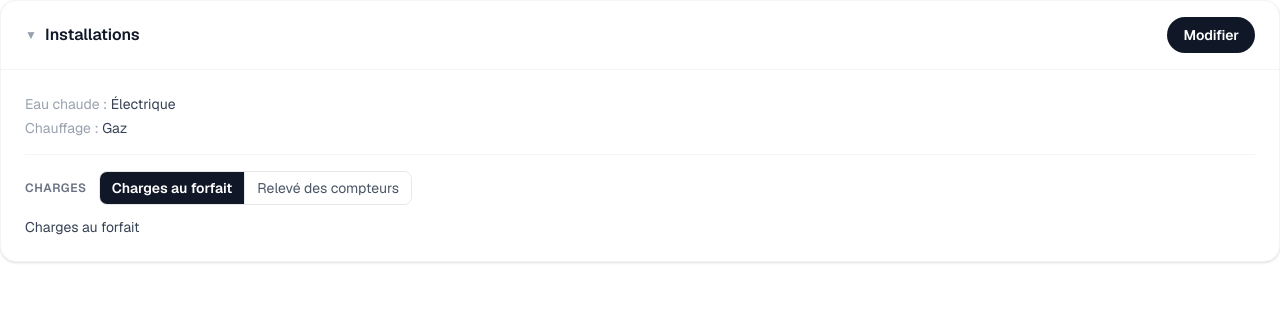
ApartmentInstallationPanel — édition › ferme le formulaire avec Annuler sans sauvegarder
Click the button "Modifier". click: x=1211, y=35
box: x1=1168 y1=17 x2=1255 y2=53
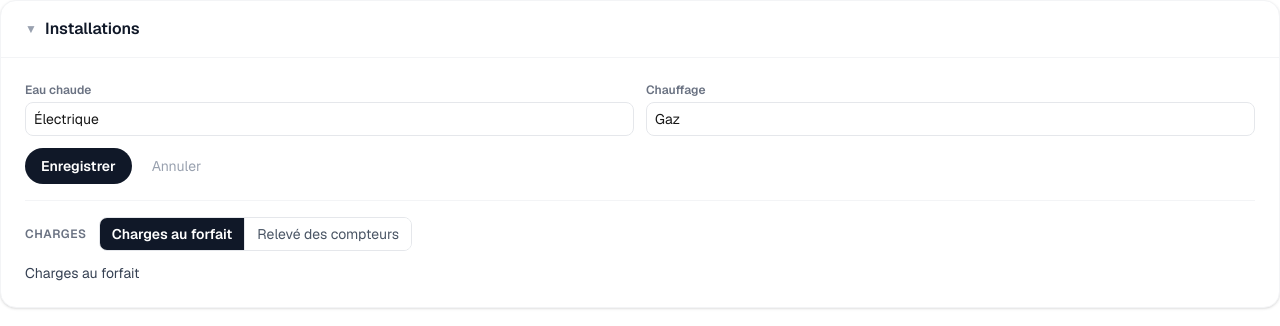
Click the button "Annuler". click: x=176, y=166
box: x1=140 y1=148 x2=213 y2=184
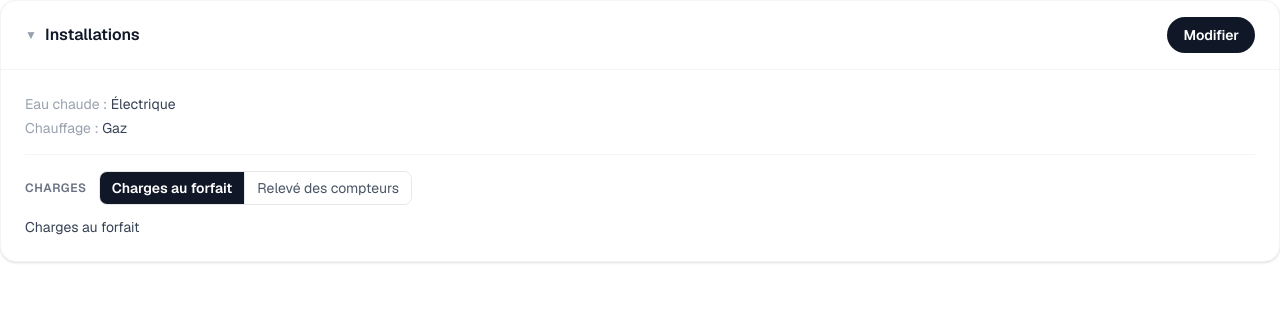
Check: the button "Annuler" is gone
